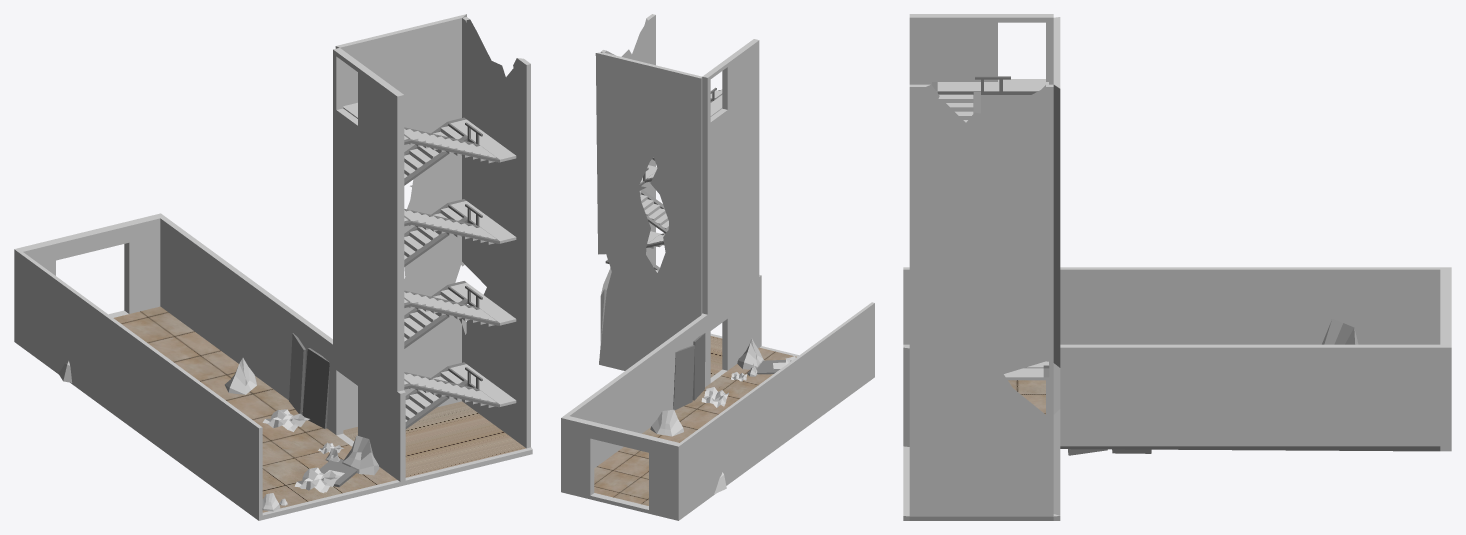
Rendered from escape.glb.
3 views of the same model, side by side, from view 1: azimuth 30°, elevation 25°; view 2: azimuth 150°, elevation 25°; view 3: azimuth 270°, elevation 25° (orthographic). The views are drawn at different scales.
Parts seen in each view (by area): view 1: Plano.001, Cubo.016, Cubo.010, Cubo.008, Cubo.018, Cubo.001, Cubo.007, Cubo.015, Cubo.009, Cubo.017, Cubo.002, Cubo.026 (+3 smaller); view 2: Plano.001, Cubo.002, Cubo.010, Cubo.001, Cubo.028, Cubo.026, Plano subdividido.005; view 3: Plano.001, Cubo.007, Cubo.031.
Part boxes in pixels (bbox=[...]): Plano.001: bbox=[14, 14, 532, 520]; Cubo.016: bbox=[404, 281, 516, 348]; Cubo.010: bbox=[404, 199, 516, 266]; Cubo.008: bbox=[404, 117, 516, 185]; Cubo.018: bbox=[405, 362, 516, 429]; Cubo.001: bbox=[302, 348, 329, 428]; Cubo.007: bbox=[343, 102, 498, 163]; Cubo.015: bbox=[404, 290, 498, 326]; Cubo.009: bbox=[404, 209, 498, 244]; Cubo.017: bbox=[404, 372, 498, 407]; Cubo.002: bbox=[289, 333, 305, 414]; Cubo.026: bbox=[342, 435, 379, 475]; Plano.001: bbox=[561, 14, 874, 520]; Cubo.002: bbox=[673, 345, 694, 410]; Cubo.010: bbox=[639, 165, 668, 233]; Cubo.001: bbox=[692, 333, 705, 400]; Cubo.028: bbox=[650, 409, 683, 436]; Cubo.026: bbox=[737, 337, 764, 369]; Plano subdividido.005: bbox=[701, 387, 728, 407]; Plano.001: bbox=[903, 14, 1451, 520]; Cubo.007: bbox=[932, 76, 1048, 122]; Cubo.031: bbox=[1322, 318, 1358, 344].
Bounding box in the file's own units: 35.92 × 47.77 × 53.7.
4 materials, 1 textured.
